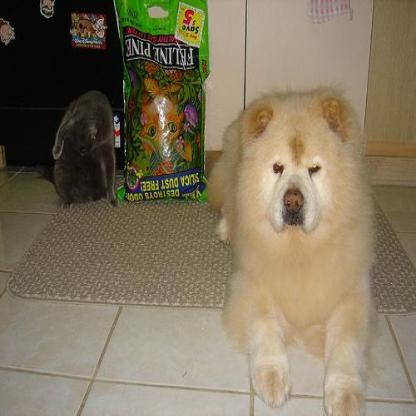chow: (206, 88, 377, 414)
